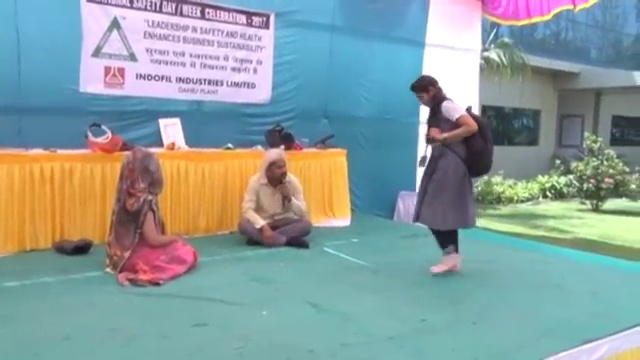helmet_off: (122, 149, 165, 192), (411, 75, 441, 110), (264, 150, 288, 183)
person: (407, 74, 496, 278), (104, 151, 200, 288), (239, 149, 312, 248)
